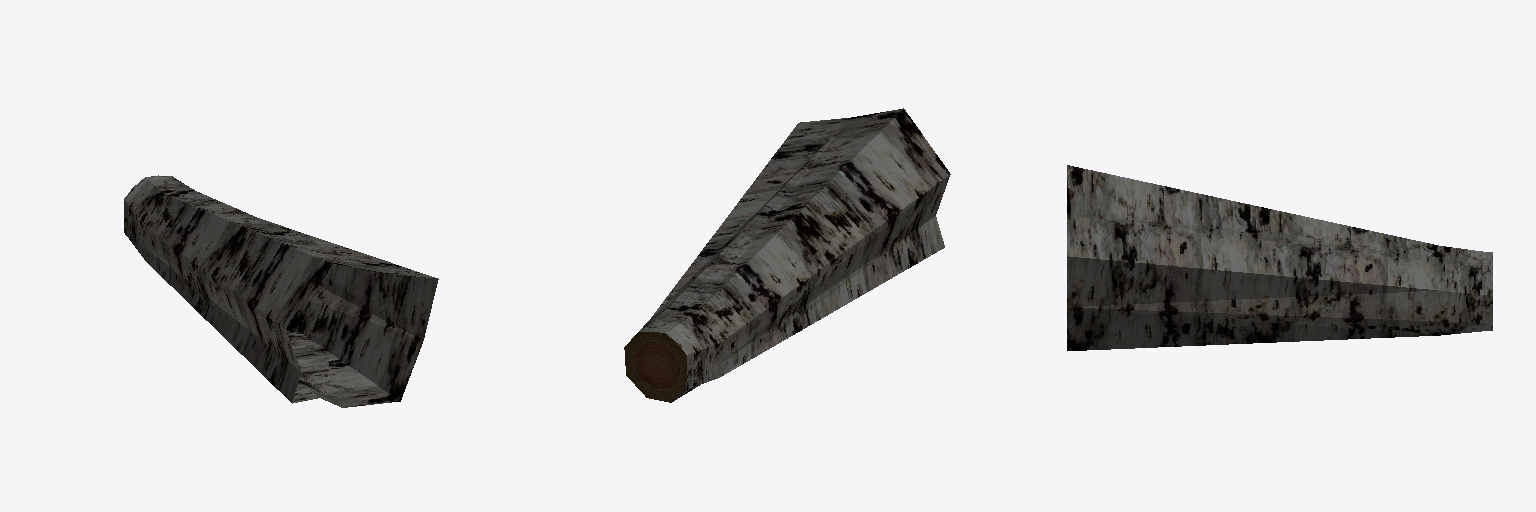
3 renders of one model, left to right at view 1: azimuth 30°, elevation 25°; view 2: azimuth 150°, elevation 25°; view 3: azimuth 270°, elevation 25°, orthographic.
Visible parts, largest first — view 1: pCylinder121__Mt_Tree_Stump; view 2: pCylinder121__Mt_Tree_Stump, mmm__Mt_TreeSection_Stump, topmmm__Mt_TreeSection_Trunk; view 3: pCylinder121__Mt_Tree_Stump.
Boxes of the visible parts, x1,y1,x2,y2 form: pCylinder121__Mt_Tree_Stump: [124, 175, 438, 407]; pCylinder121__Mt_Tree_Stump: [631, 108, 950, 401]; mmm__Mt_TreeSection_Stump: [624, 332, 686, 402]; topmmm__Mt_TreeSection_Trunk: [625, 332, 686, 402]; pCylinder121__Mt_Tree_Stump: [1067, 165, 1492, 350].
Size of the model in its own units: 2.07 by 2 by 5.03.
4 materials, 2 textured.